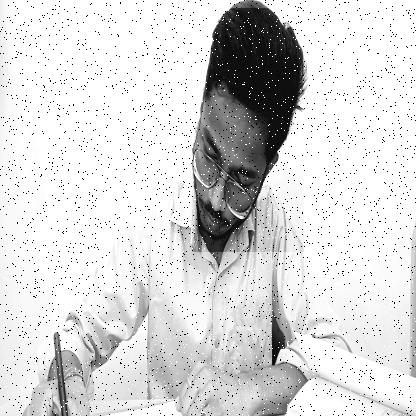Distracted: (192, 8, 304, 252)
